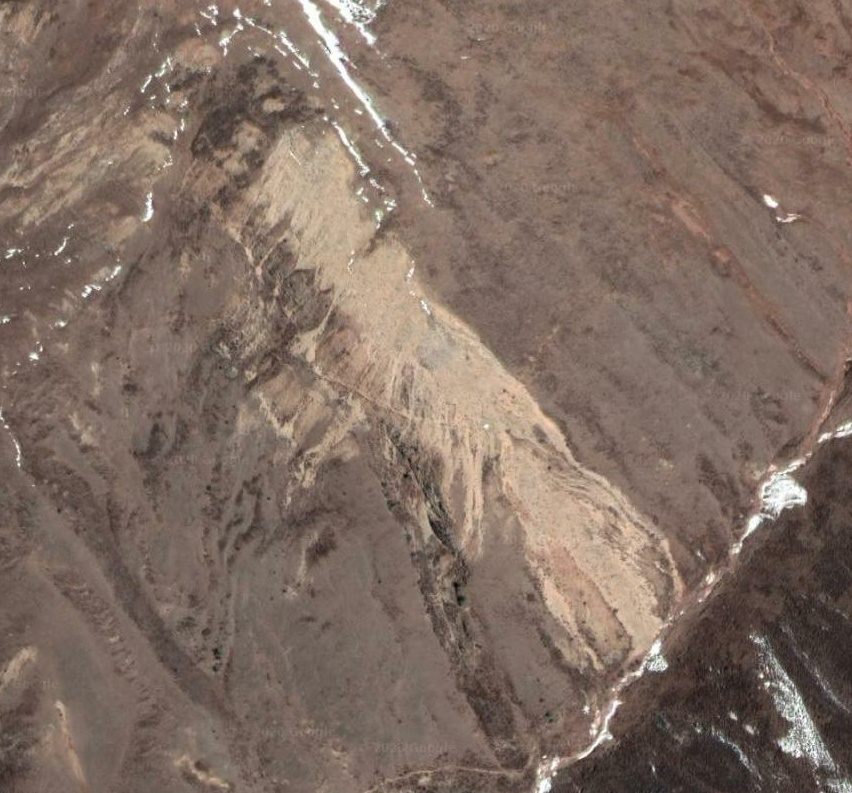slope: (230, 115, 678, 678)
